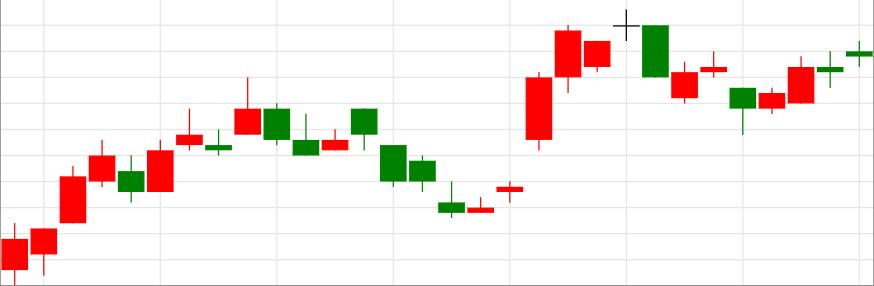evening_star_fall: (437, 8, 670, 217)
